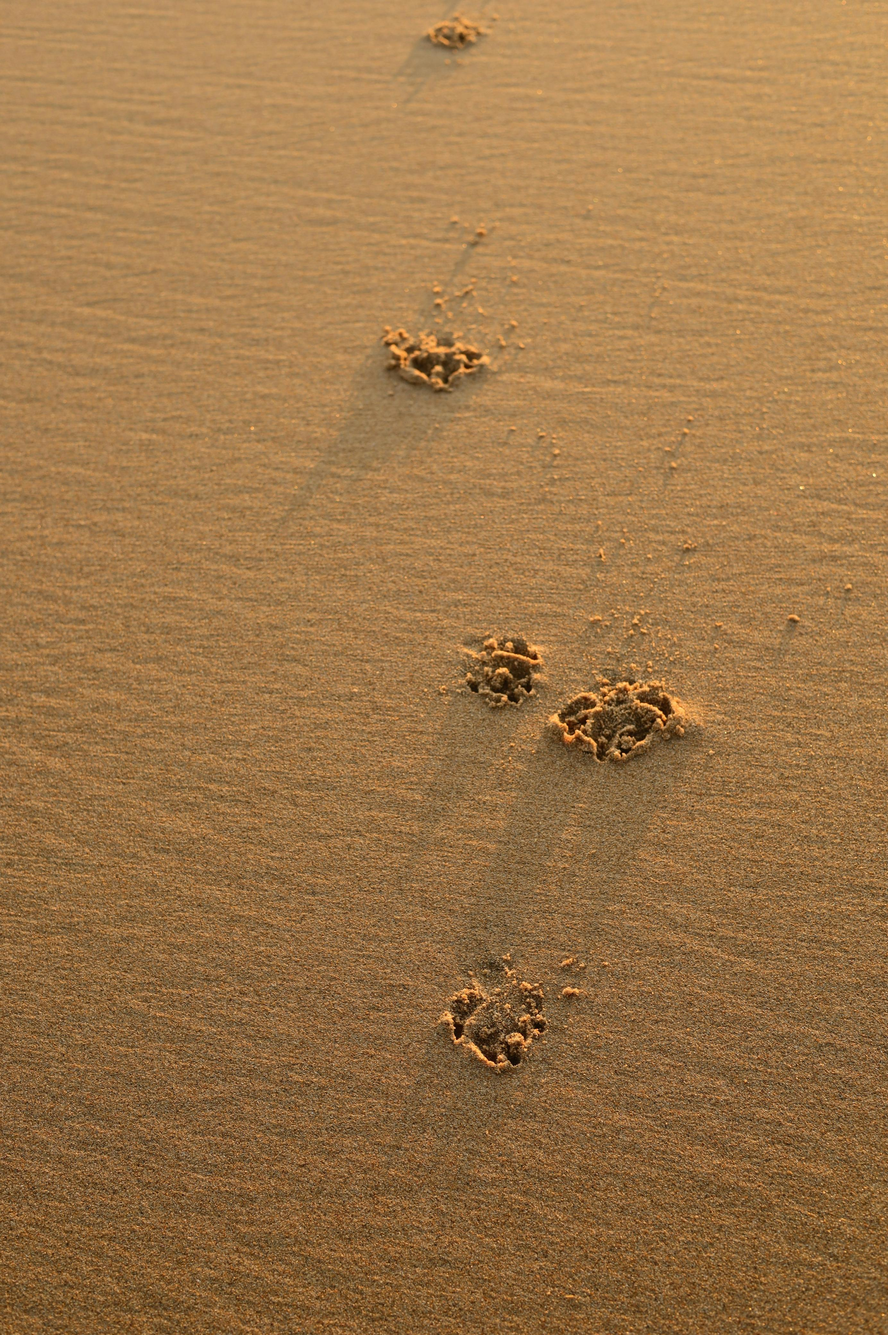animal_foot_print: (441, 957, 546, 1071), (550, 678, 688, 761), (382, 326, 489, 391), (465, 636, 542, 707), (427, 12, 486, 49)
